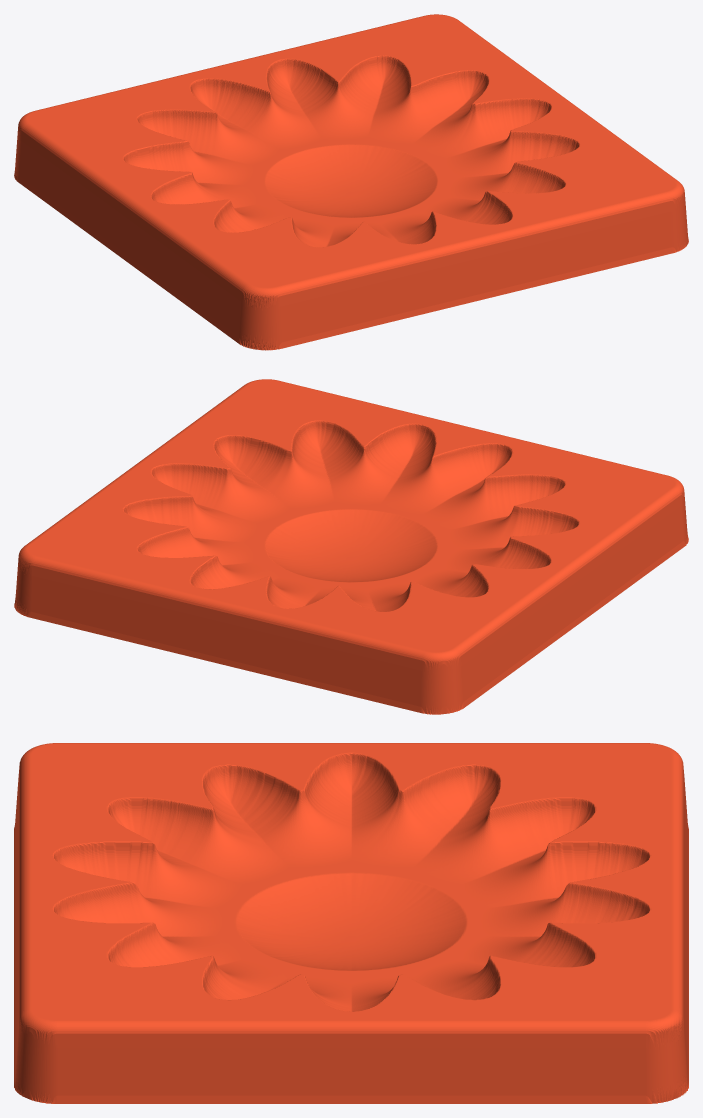
File: mold.glb
3 renders of one model, top to bottom at view 1: azimuth 30°, elevation 25°; view 2: azimuth 150°, elevation 25°; view 3: azimuth 270°, elevation 25°, orthographic. The views are drawn at different scales.
Visible parts, largest first — view 1: geometry_0; view 2: geometry_0; view 3: geometry_0.
Part boxes in pixels (box(x1,y1,x2,y2)): geometry_0: box(14, 14, 688, 350); geometry_0: box(14, 379, 688, 714); geometry_0: box(14, 743, 688, 1103).
Size of the model in its own units: 0.1435 by 0.0175 by 0.1406.
